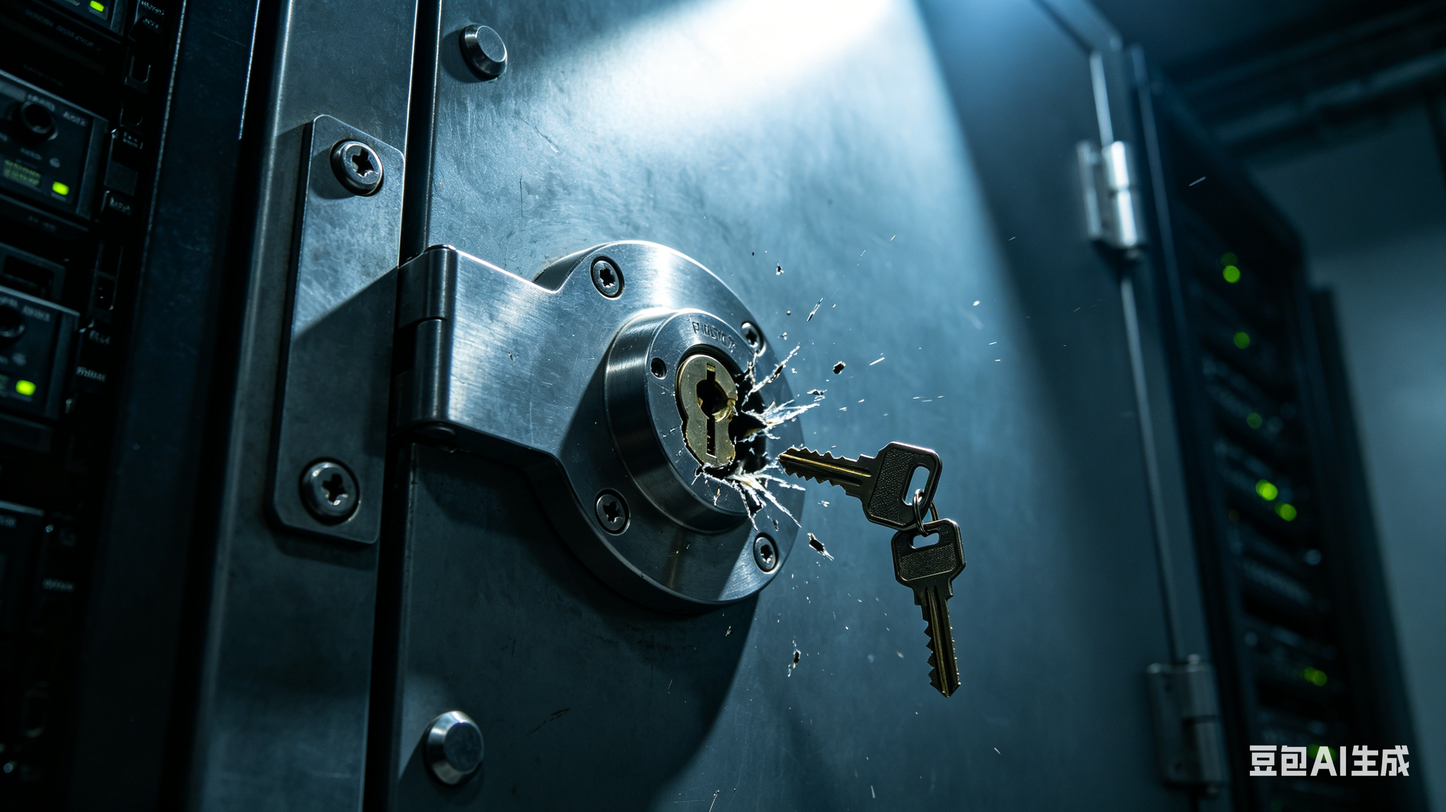BadLock: (646, 328, 815, 518)
